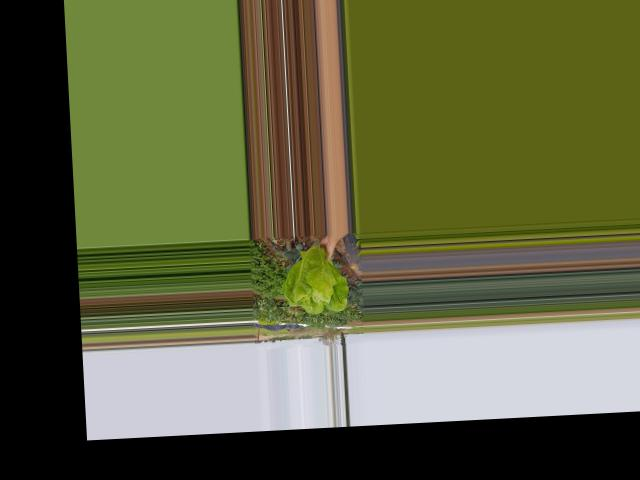lettuce: (278, 238, 352, 316)
